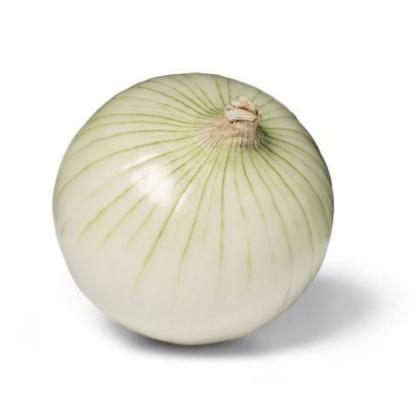onion: (44, 57, 360, 380)
